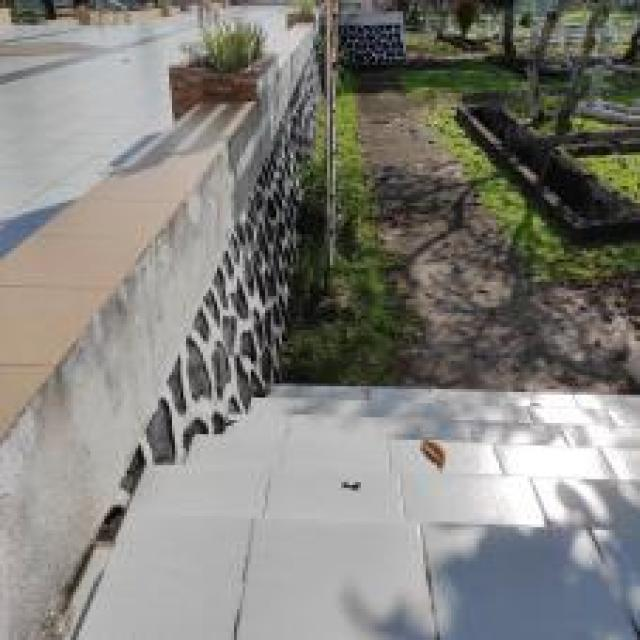downstair: (148, 348, 638, 587)
